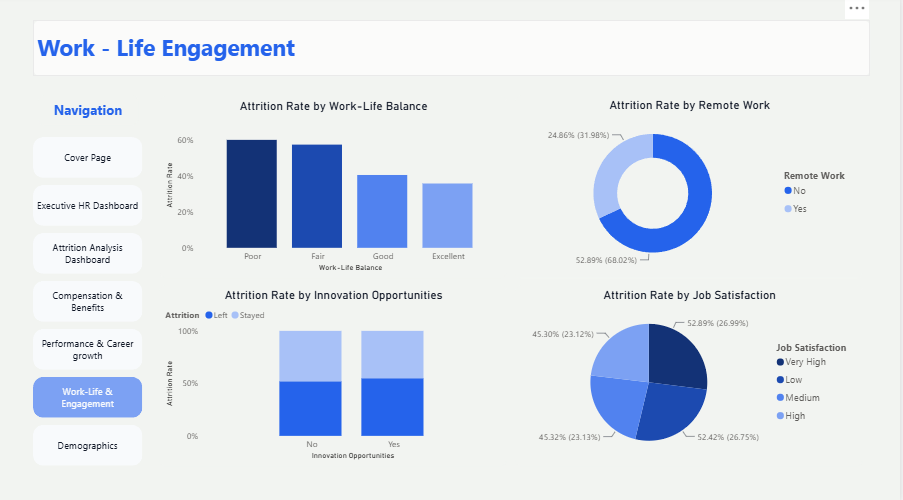

Layout of this report page (visuals, bound fields, positions):
{"tool":"powerbi","page":{"name":"Work-Life & Engagement","canvas":[1280,720],"ordinal":5},"visuals":[{"type":"textbox","box":[50.9,33.4,1186.6,79.5],"z":0},{"type":"pageNavigator","box":[51.7,200,155,466.7],"z":1000},{"type":"donutChart","fields":{"Category":["HR-Employee.Remote Work"],"Y":["HR-Employee.Attrition Rate"]},"box":[734,140.6,493.4,259.5],"z":2000},{"type":"pieChart","fields":{"Y":["HR-Employee.Attrition Rate"],"Category":["HR-Employee.Job Satisfaction"]},"box":[734,409.6,493.4,256.8],"z":3000},{"type":"columnChart","fields":{"Category":["HR-Employee.Work-Life Balance"],"Y":["HR-Employee.Attrition Rate"]},"box":[229.8,141.9,493.4,258.2],"z":4000},{"type":"hundredPercentStackedColumnChart","title":"Attrition Rate by Innovation Opportunities","fields":{"Y":["HR-Employee.Attrition Rate"],"Category":["HR-Employee.Innovation Opportunities"],"Series":["HR-Employee.Attrition"]},"box":[229.8,409.6,493.4,256.8],"z":5000},{"type":"textbox","box":[58.3,140,141.7,43.3],"z":6000}]}

Visuals, with their boxes in screenshot pixels (x1, y1, x2, y2), scaled from the page's 1280x720 canvas onto the 903x500 screenshot:
textbox: [left=36, top=23, right=873, bottom=78]
pageNavigator: [left=36, top=139, right=146, bottom=463]
donutChart - HR-Employee.Remote Work x HR-Employee.Attrition Rate: [left=518, top=98, right=866, bottom=278]
pieChart - HR-Employee.Attrition Rate x HR-Employee.Job Satisfaction: [left=518, top=284, right=866, bottom=463]
columnChart - HR-Employee.Work-Life Balance x HR-Employee.Attrition Rate: [left=162, top=99, right=510, bottom=278]
"Attrition Rate by Innovation Opportunities" hundredPercentStackedColumnChart: [left=162, top=284, right=510, bottom=463]
textbox: [left=41, top=97, right=141, bottom=127]
